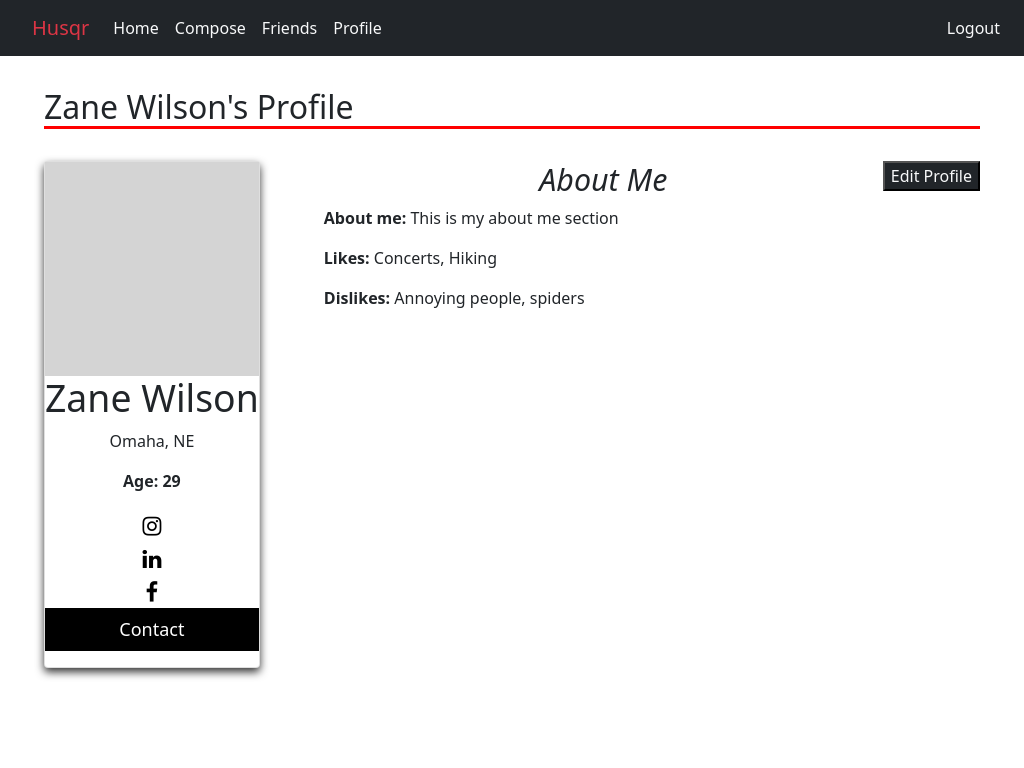
Husqr-test › logs out
The image size is (1024, 768).
Click the link with class "logout" at (974, 28), box left=947, top=17, right=1000, bottom=39
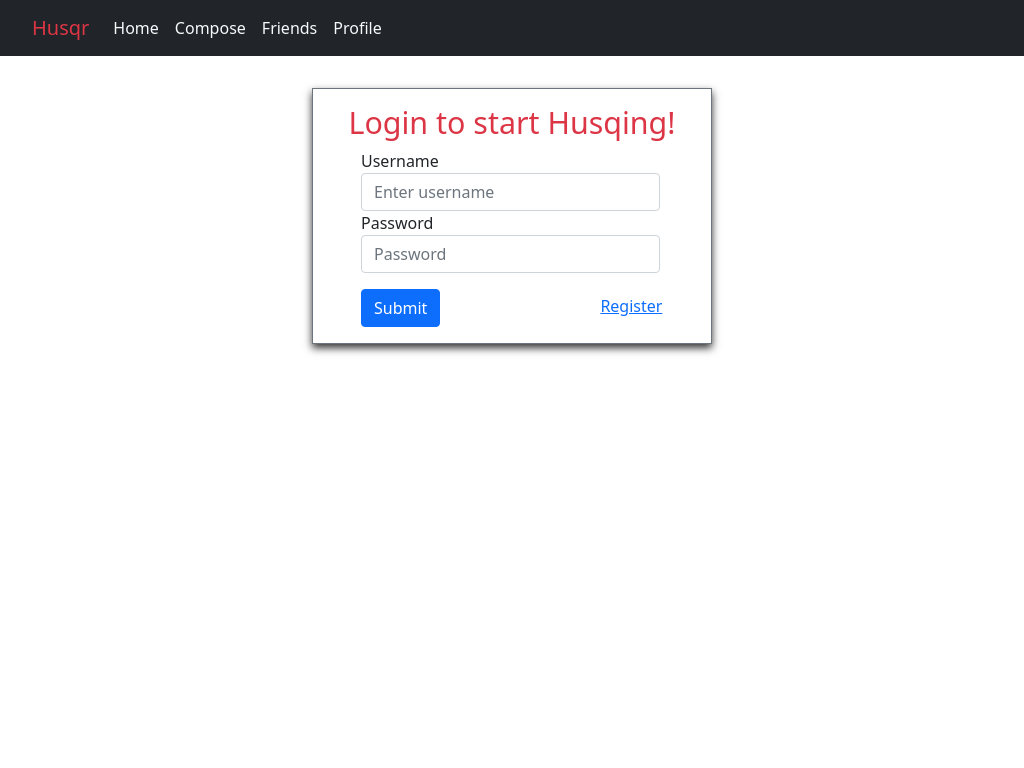
Check: the link with class "logout" is gone
